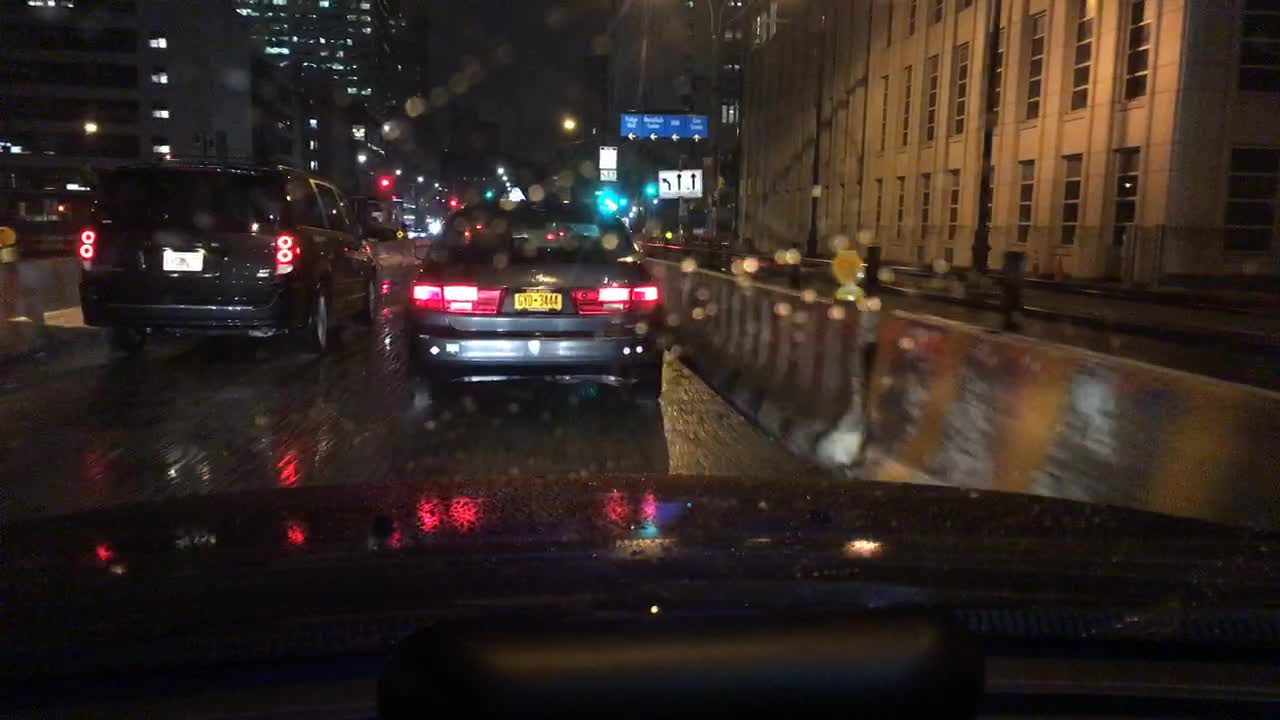car: (75, 154, 380, 361), (400, 194, 672, 409), (360, 199, 407, 238), (400, 200, 428, 231)
traffic light: (591, 185, 621, 214), (641, 177, 658, 202), (484, 185, 496, 203), (563, 116, 576, 132), (378, 176, 390, 190), (448, 196, 458, 209)
traffic sign: (616, 111, 710, 141), (657, 167, 707, 197)
